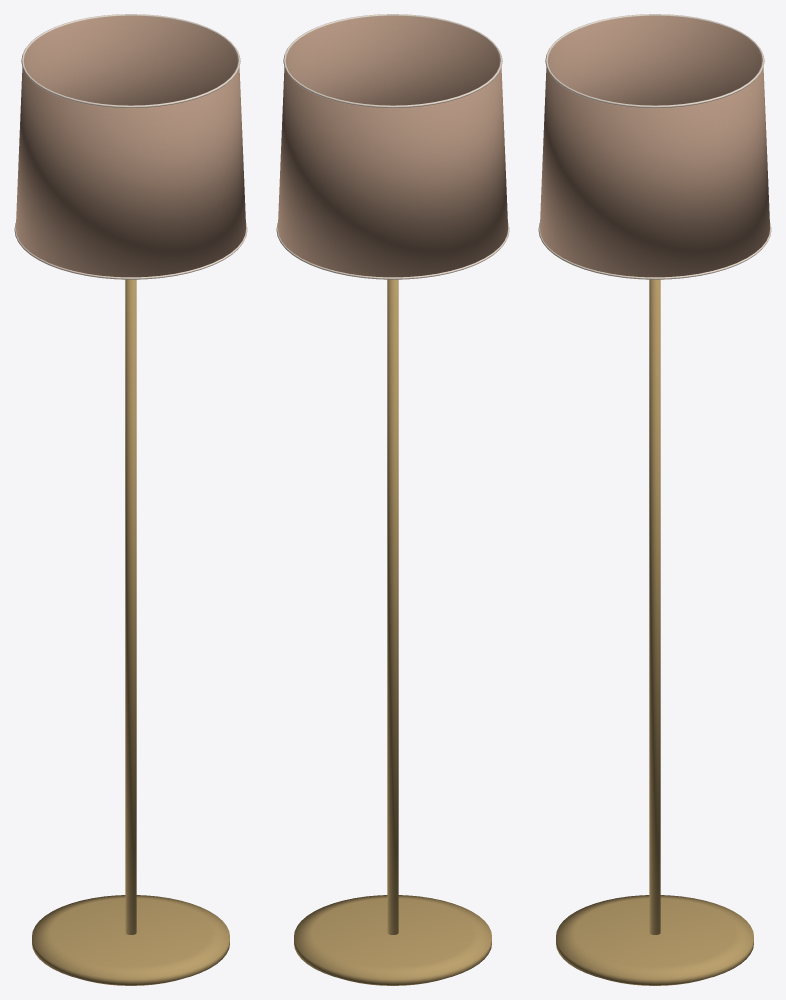
File: contemporary.floor_lamp.gltf
The picture shows the model from 3 angles, left to right: view 1: azimuth 30°, elevation 25°; view 2: azimuth 150°, elevation 25°; view 3: azimuth 270°, elevation 25°; orthographic projection.
Parts seen in each view (by area): view 1: contemporary.floor_lamp.foot; view 2: contemporary.floor_lamp.foot; view 3: contemporary.floor_lamp.foot.
Part boxes in pixels (x1,y1,x2,y2): contemporary.floor_lamp.foot: [14, 14, 247, 985]; contemporary.floor_lamp.foot: [276, 14, 509, 985]; contemporary.floor_lamp.foot: [538, 14, 771, 985].
Bounding box in the file's own units: 0.364 × 1.53 × 0.364.
Materials: 4 (1 with a texture image).
